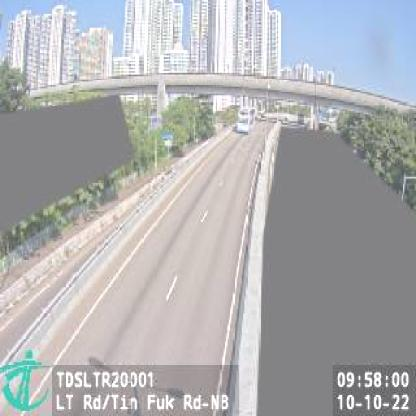Bus: (236, 106, 256, 134)
